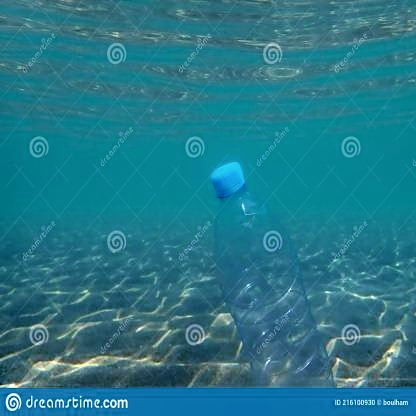pbottle: (202, 158, 348, 389)
